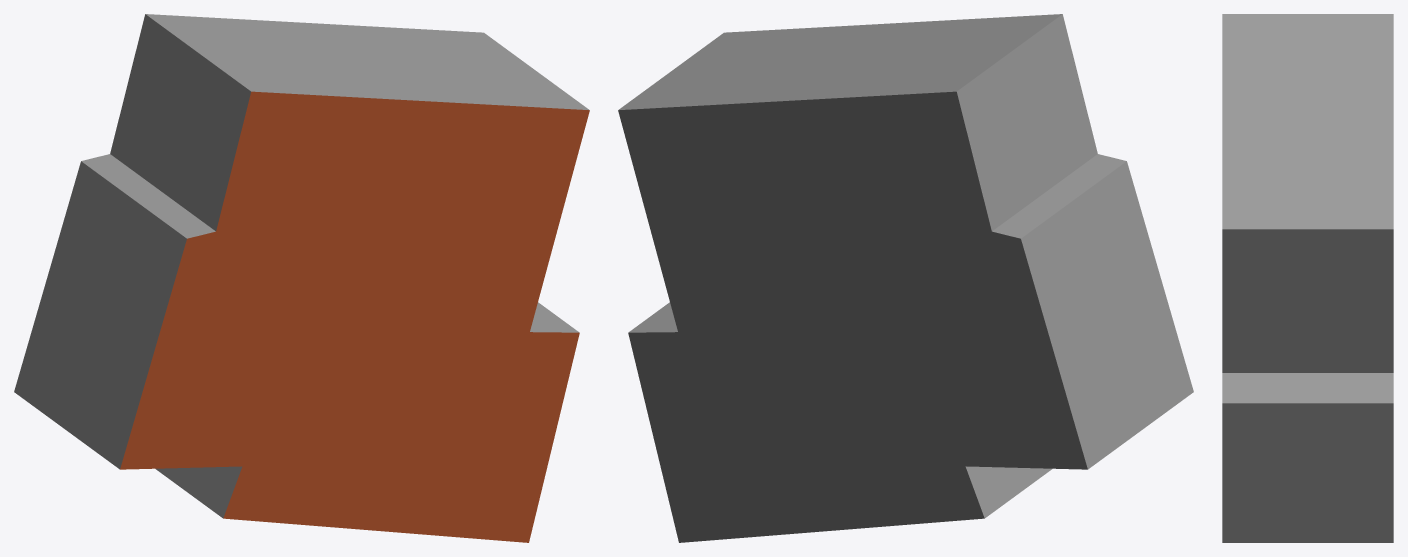
Rendered from construction_1939_assumed_A_Casa_h6m.obj.
3 renders of one model, left to right at view 1: azimuth 30°, elevation 25°; view 2: azimuth 150°, elevation 25°; view 3: azimuth 270°, elevation 25°, orthographic. The views are drawn at different scales.
Visible parts, largest first — view 1: construction_1939_assumed_A_Casa; view 2: construction_1939_assumed_A_Casa; view 3: construction_1939_assumed_A_Casa.
Part boxes in pixels (x1,y1,x2,y2): construction_1939_assumed_A_Casa: (14,14,589,542); construction_1939_assumed_A_Casa: (618,14,1193,542); construction_1939_assumed_A_Casa: (1222,14,1393,542).
Bounding box in the file's own units: 15.35 × 16.21 × 6.
